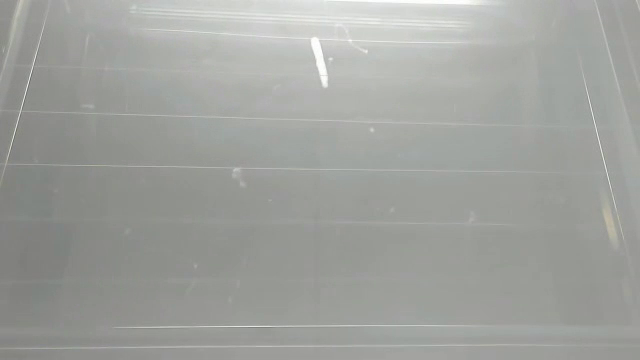alpha: (308, 34, 334, 89)
